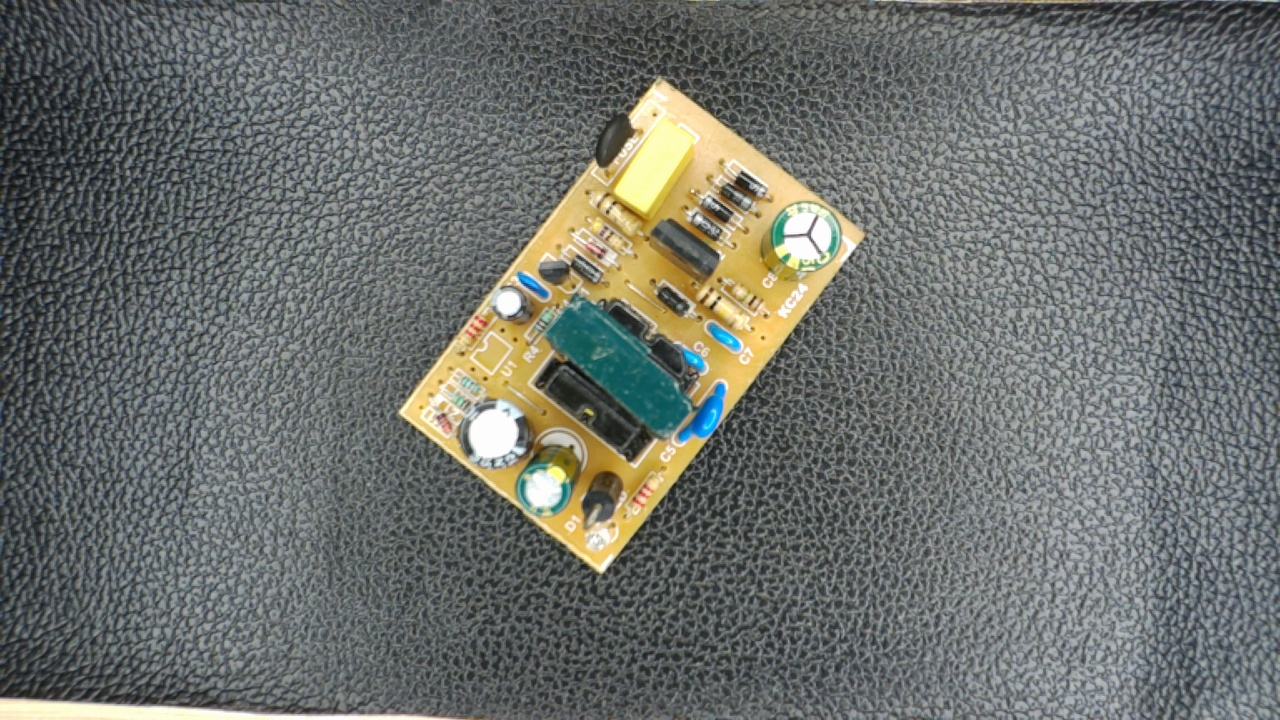fuse: (591, 108, 645, 183)
hv_capacitor: (762, 198, 846, 282)
mov: (672, 378, 734, 446)
